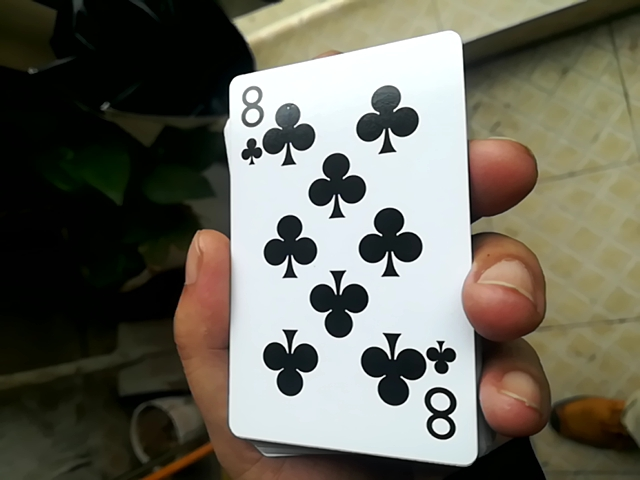mh 8: (233, 10, 465, 475)
